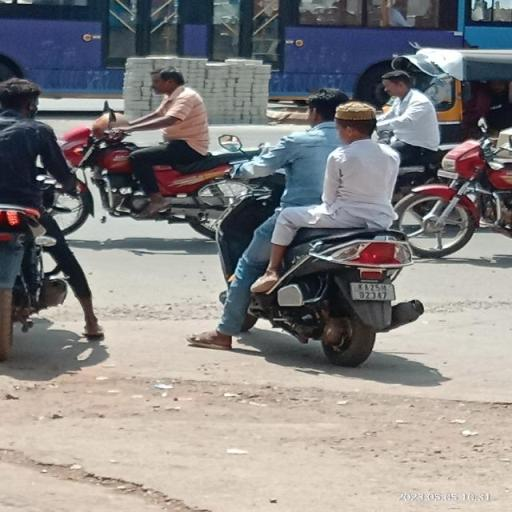bike: (206, 88, 422, 370)
numberplate: (351, 284, 396, 300)
withouthelmet: (336, 104, 376, 138), (309, 92, 341, 123)
